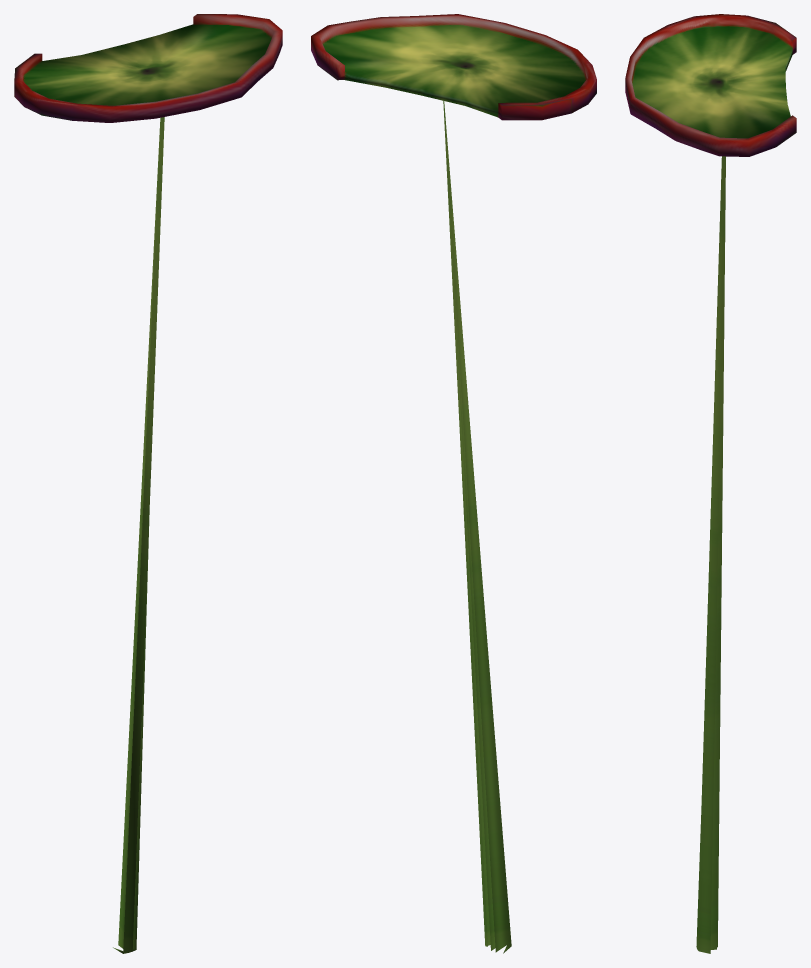
File: Lily_texutred_Stemless (1).fbx
3 views of the same model, side by side, from view 1: azimuth 30°, elevation 25°; view 2: azimuth 150°, elevation 25°; view 3: azimuth 270°, elevation 25° (orthographic).
Parts seen in each view (by area): view 1: lilly_01; view 2: lilly_01; view 3: lilly_01.
Part boxes in pixels (x1,y1,x2,y2): lilly_01: (14, 14, 282, 953); lilly_01: (311, 14, 596, 953); lilly_01: (625, 14, 796, 953).
Bounding box in the file's own units: 17.8 × 57.36 × 10.03.
